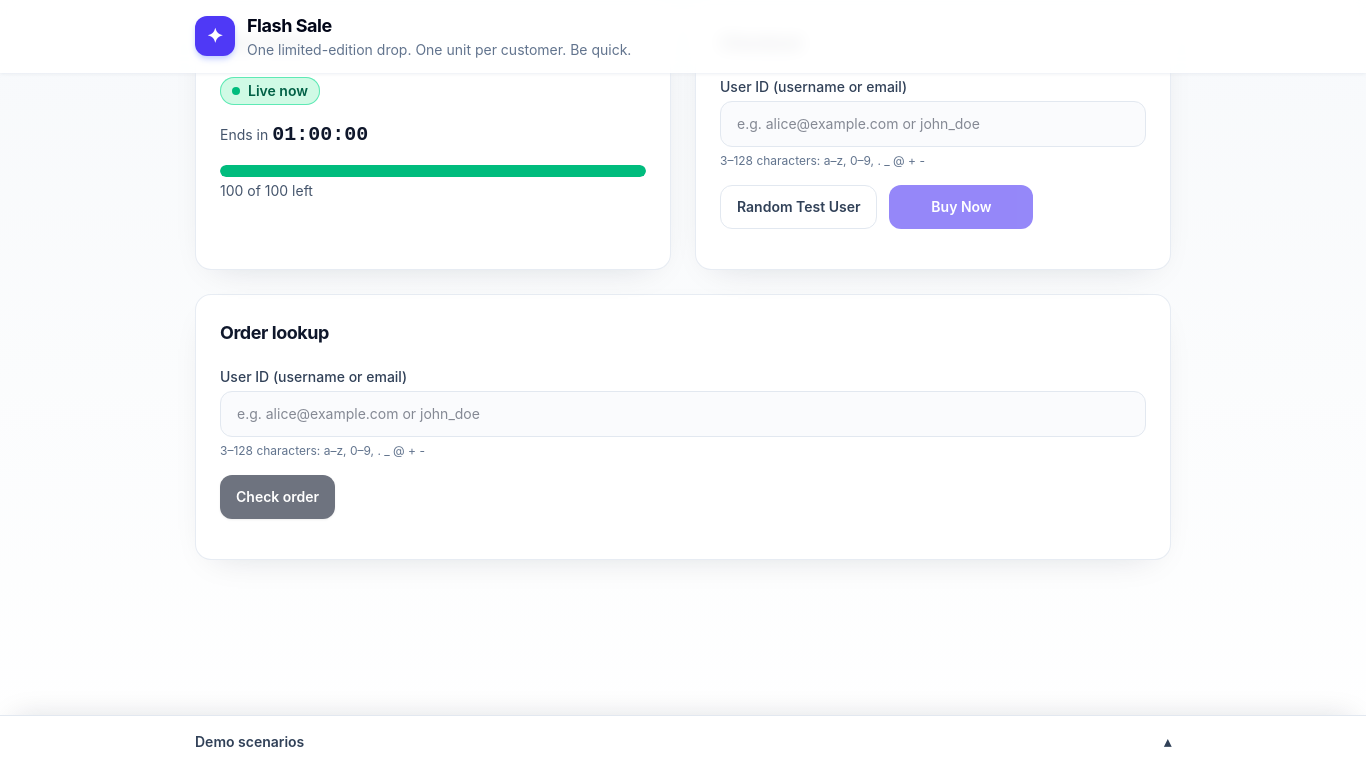
Test case: App › clears an earlier order lookup result when a scenario is applied
The width and height of the screenshot is (1366, 768).
(page scrolled)
Check: the text "Live now" is shown, box [220,77,320,105]
Type "alice" into the field labelled "User ID (username or email)" below "Order lookup" at coordinates (683, 414), box [220,391,1146,437]
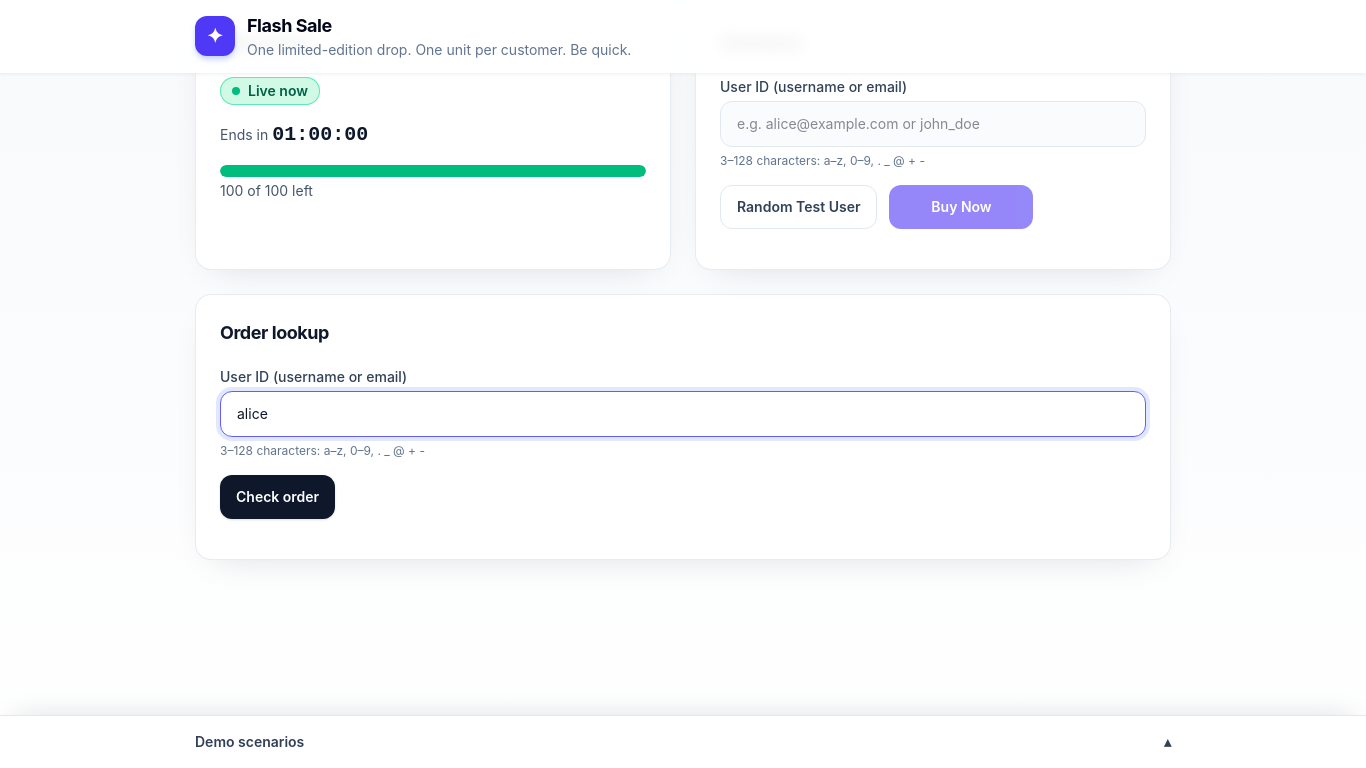
Click the button "Check order" at coordinates (278, 497), box [220,475,335,519]
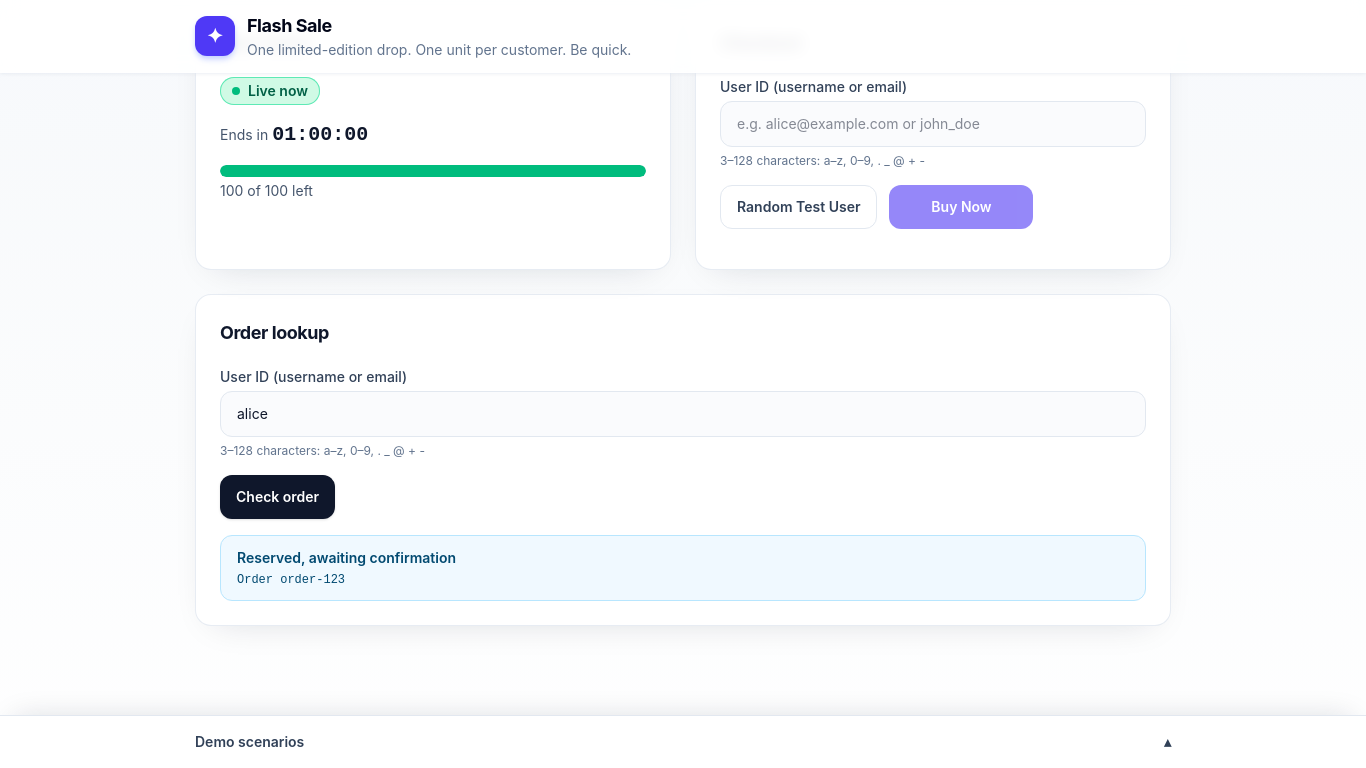
Check: the text "Reserved, awaiting confirmation" is shown, box [237,549,456,566]
Click the button "Demo scenarios ▴" at coordinates (250, 742), box [195,716,1171,767]
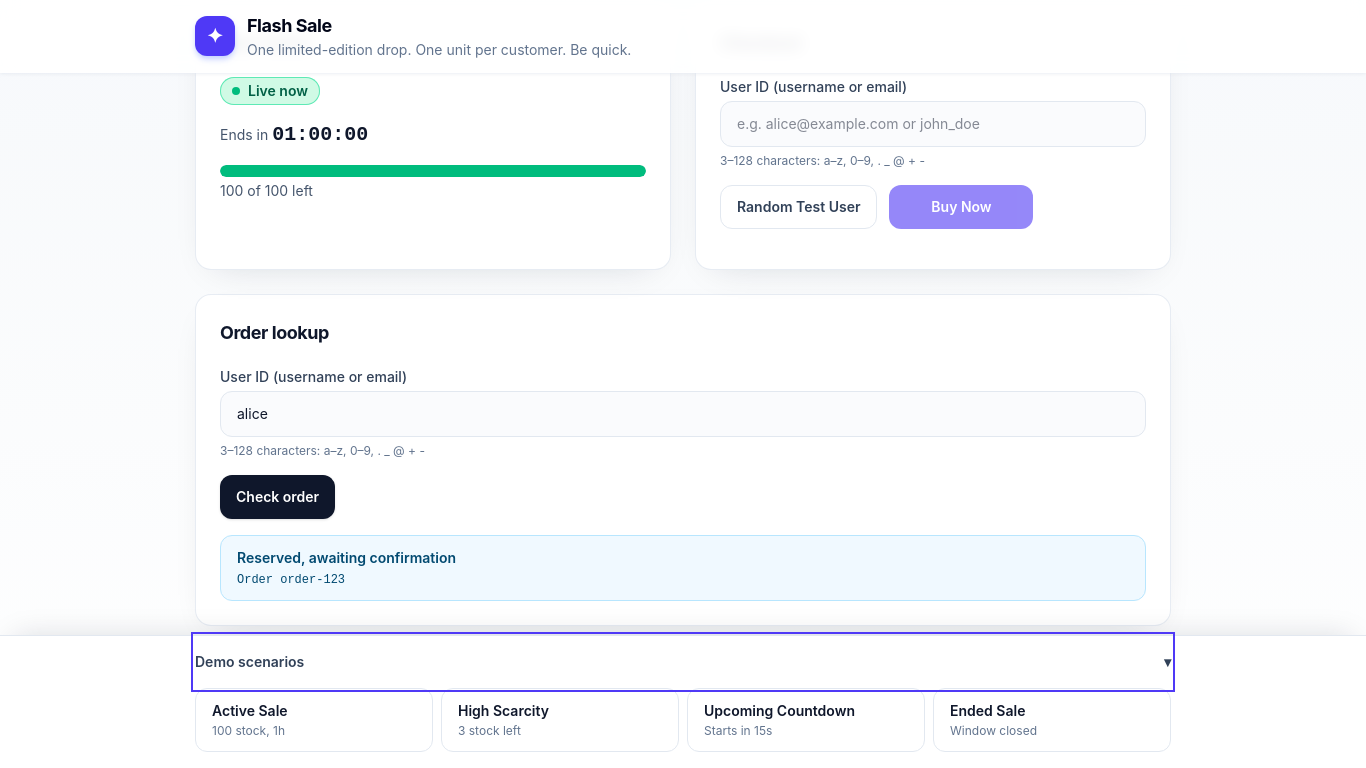
Click the button "Ended Sale Window closed" at coordinates (1052, 720), box [933,688,1171,752]
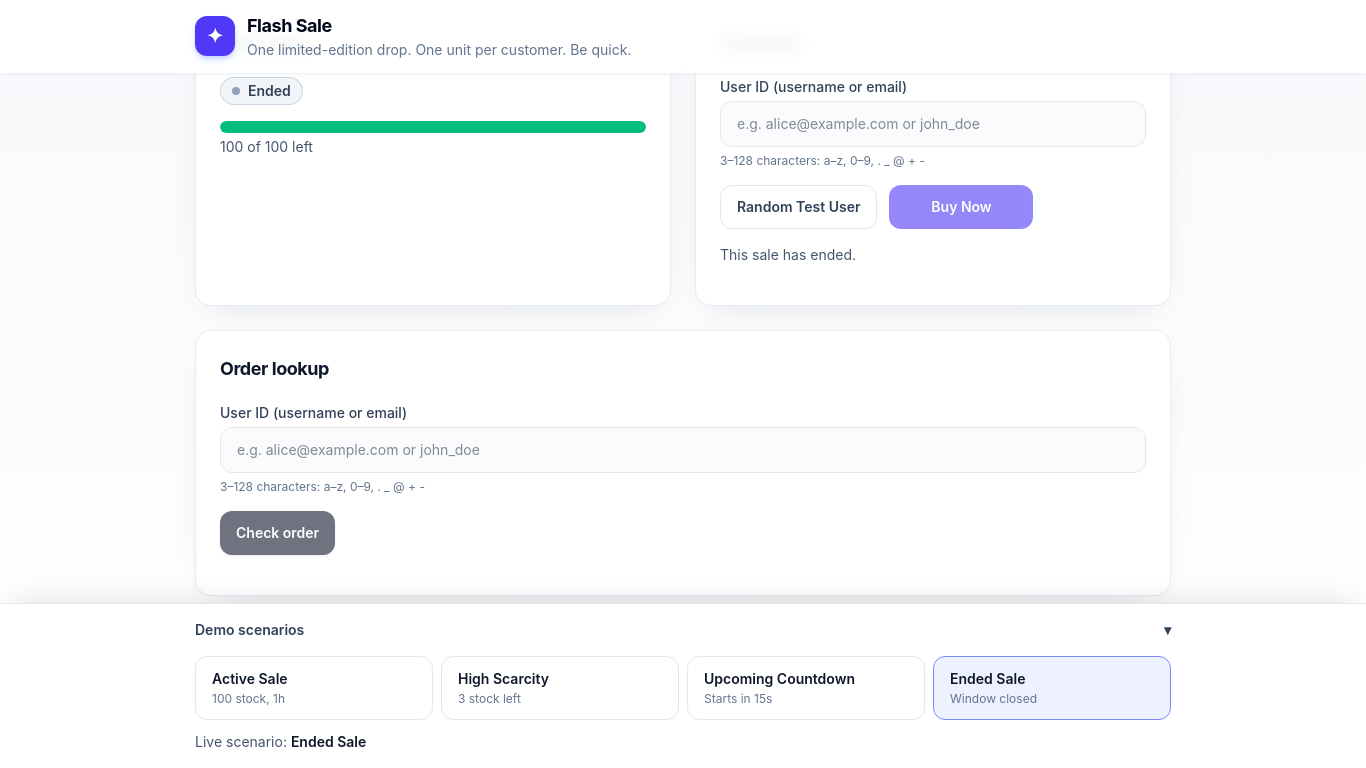
Check: the text "Ended" is shown, box [220,77,303,105]
Check: the text "Reserved, awaiting confirmation" is gone
